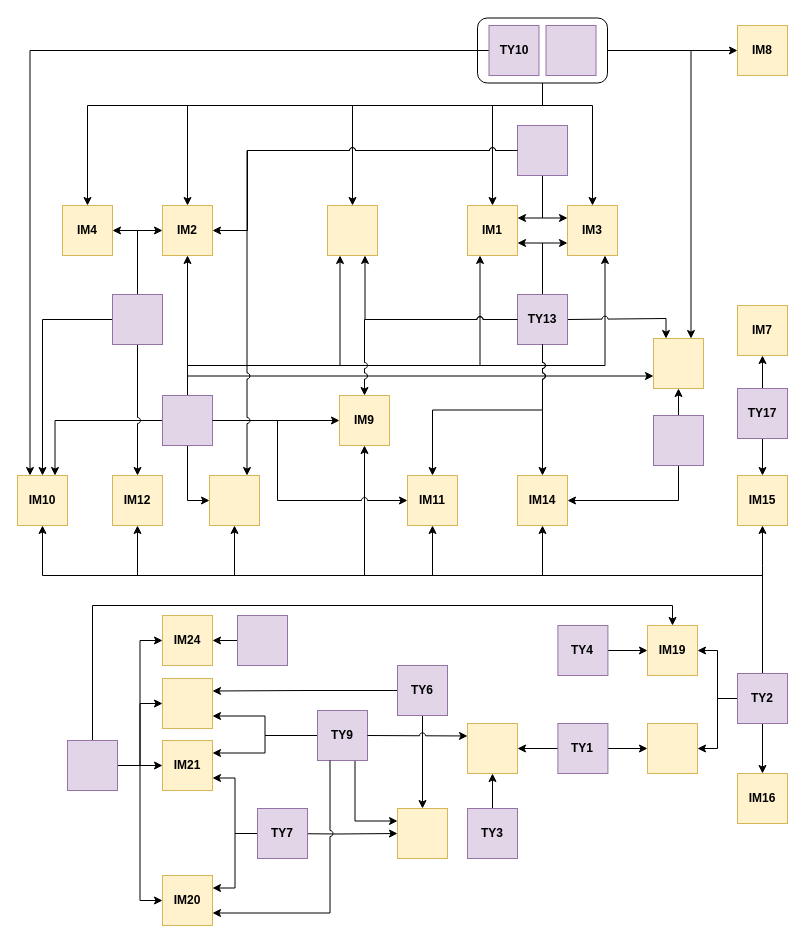
Image size: 805x943. Some labels were removed from this diagram. Here are the shapes that lost their labels. From the top down, the centre of each, then its label:
At [570,50]: "TY11".
At [542,150]: "TY12".
At [352,230]: "IM5".
At [137,319]: "TY15".
At [678,363]: "IM6".
At [187,420]: "TY14".
At [678,440]: "TY16".
At [234,500]: "IM13".
At [262,640]: "TY8".
At [187,703]: "IM22".
At [92,765]: "TY5".
At [492,748]: "IM17".
At [672,748]: "IM18".
At [422,833]: "IM23".
